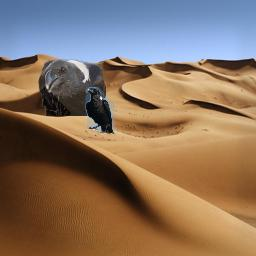Crow: (38, 59, 106, 116), (85, 87, 115, 135)
